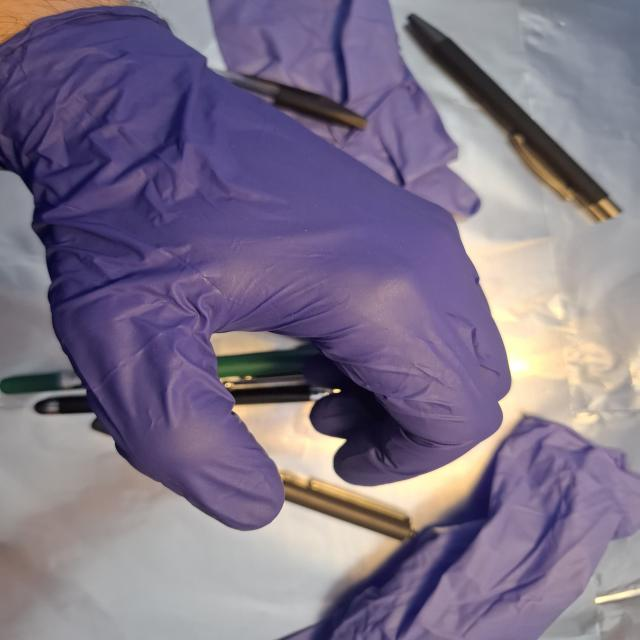glove_on: (0, 4, 519, 535)
